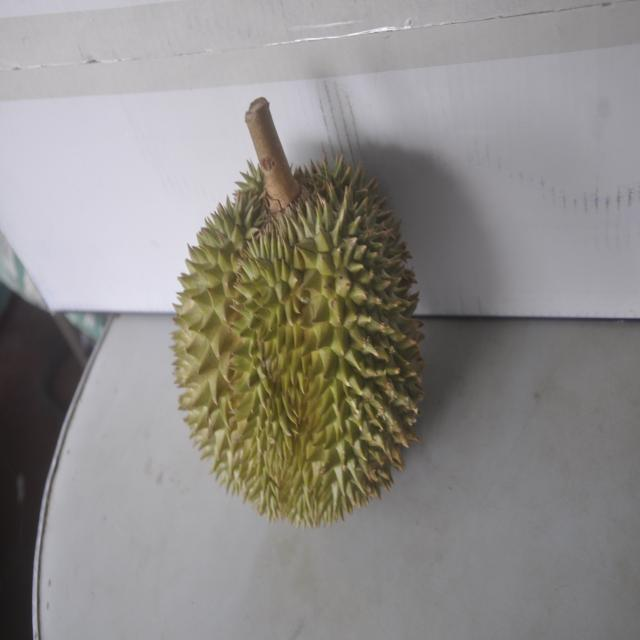mature: (170, 106, 424, 527)
